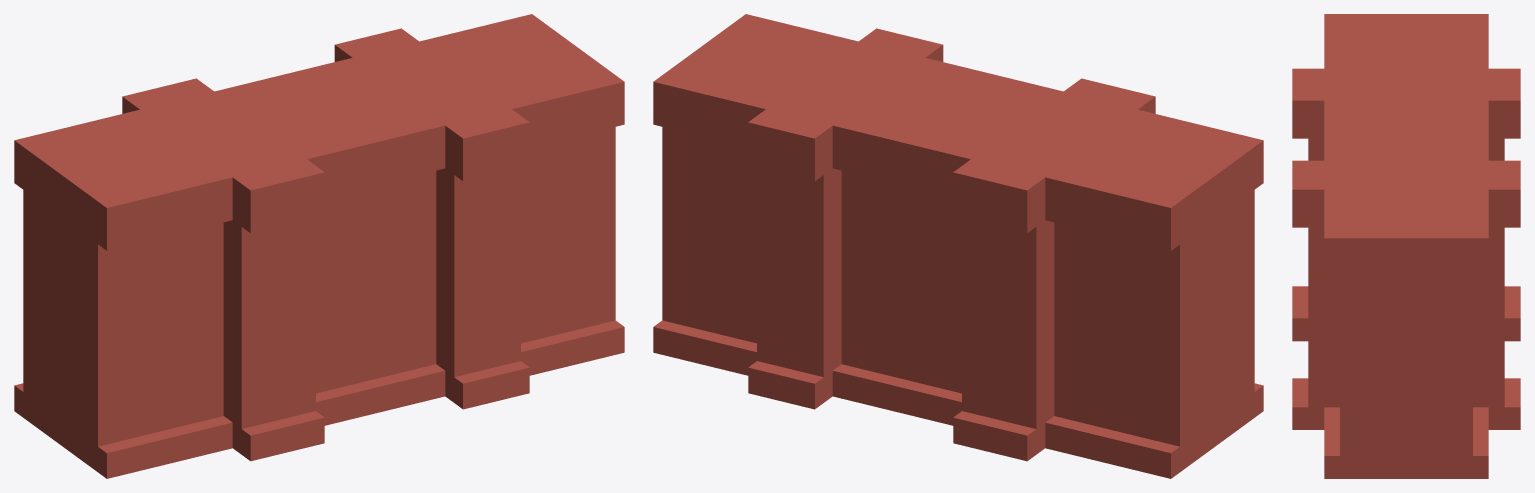
File: BigWall.FBX
3 views of the same model, side by side, from view 1: azimuth 30°, elevation 25°; view 2: azimuth 150°, elevation 25°; view 3: azimuth 270°, elevation 25° (orthographic). The views are drawn at different scales.
Visible parts, largest first — view 1: Backwall; view 2: Backwall; view 3: Backwall.
Part boxes in pixels (x1,y1,x2,y2): Backwall: (14,14,624,478); Backwall: (653,14,1263,478); Backwall: (1292,14,1520,478).
Size of the model in its own units: 157 by 78.74 by 67.64.
